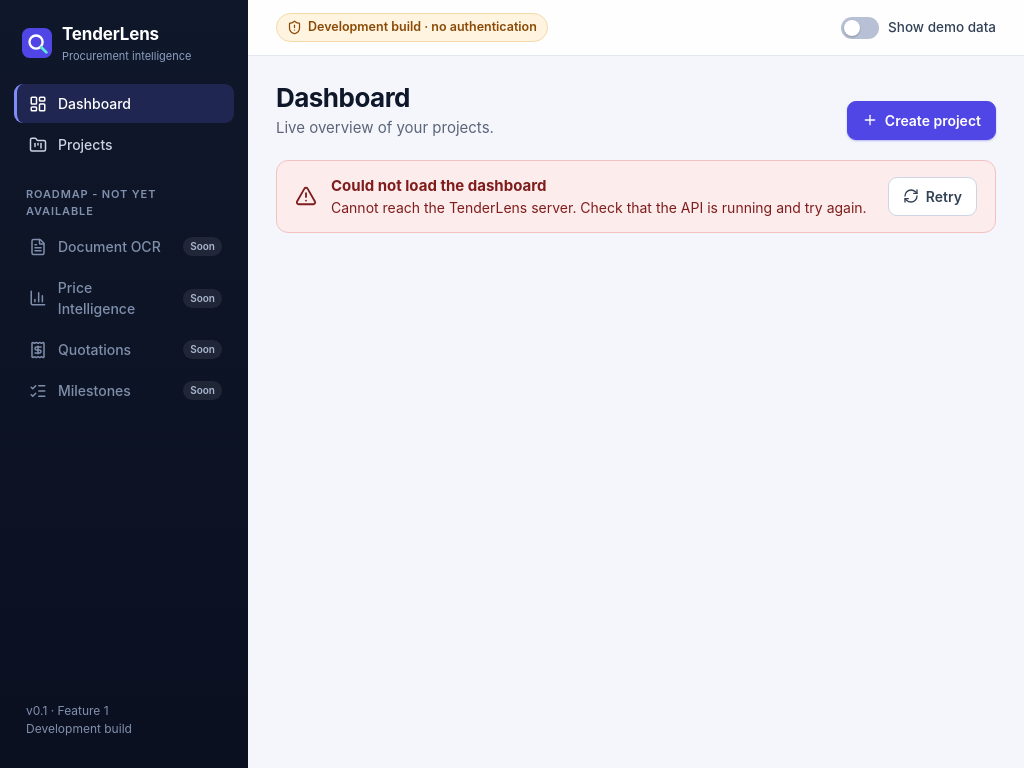
Test: Dashboard › shows an error with retry when the API is down, then recovers
This screenshot has width=1024, height=768.
Check: the message shows "Cannot reach the TenderLens server", box [331,199,867,216]
Click the button "Retry" at (932, 196), box [888,177,977,216]
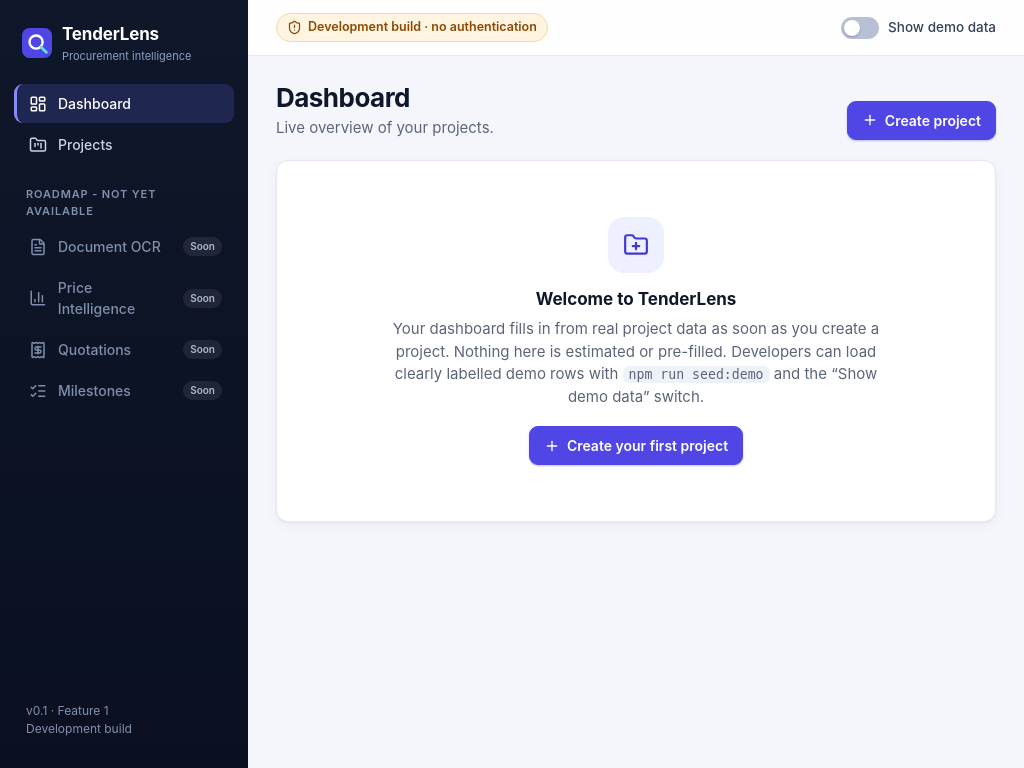
Check: the heading "Welcome to TenderLens" is shown, box [536,289,736,309]
